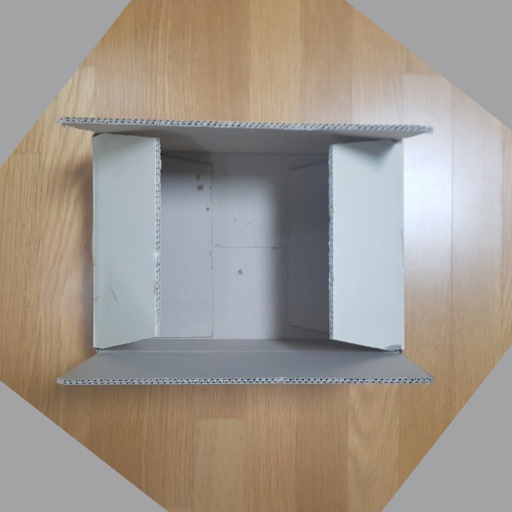Paper_0: (57, 111, 440, 394)
